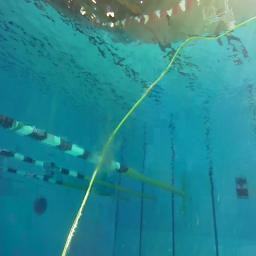Side: (236, 182, 250, 198)
